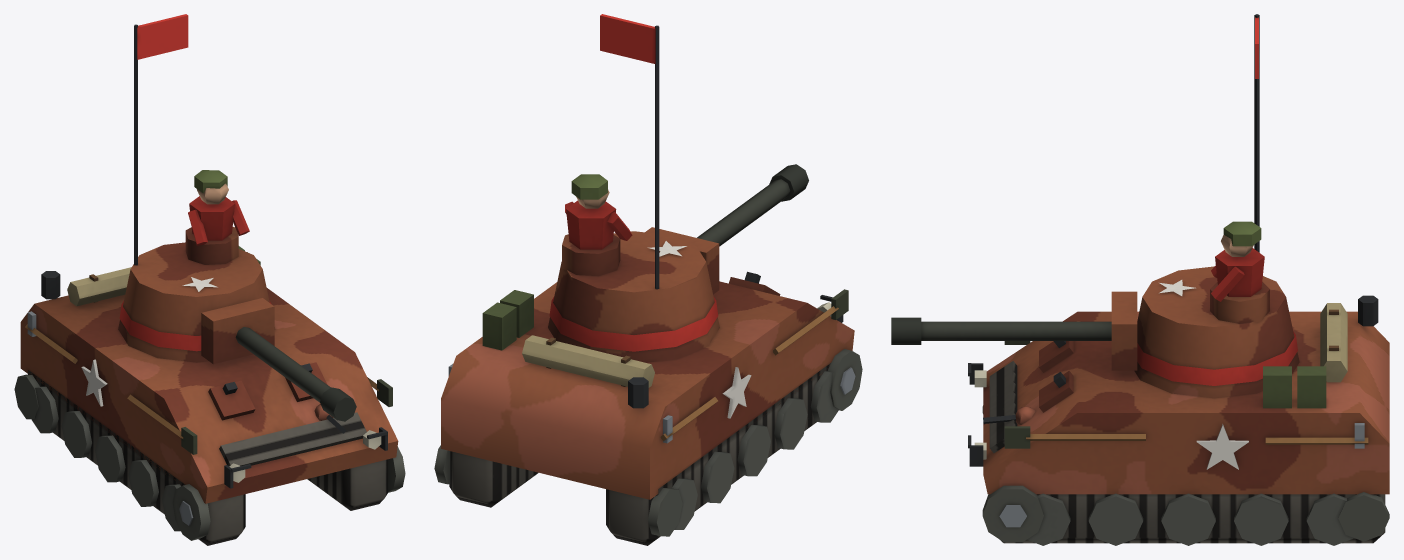
File: assault_dl6_red.glb
3 views of the same model, side by side, from view 1: azimuth 30°, elevation 25°; view 2: azimuth 150°, elevation 25°; view 3: azimuth 270°, elevation 25° (orthographic). The views are drawn at different scales.
Parts seen in each view (by area): view 1: assault_dl6_red; view 2: assault_dl6_red; view 3: assault_dl6_red.
Part boxes in pixels (x1,y1,x2,y2): assault_dl6_red: (14, 14, 405, 545); assault_dl6_red: (434, 14, 862, 545); assault_dl6_red: (891, 14, 1389, 545).
Bounding box in the file's own units: 0.304 × 0.595 × 0.5825.
Materials: 1 (1 with a texture image).
